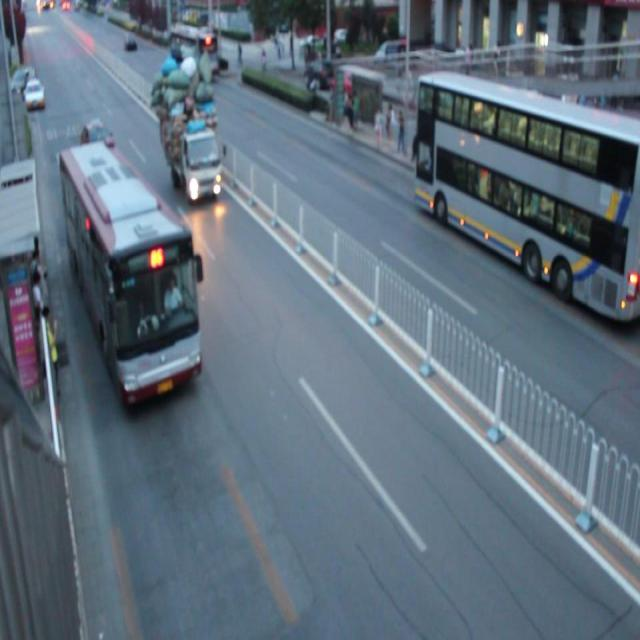bus: (160, 54, 220, 202)
car: (80, 118, 116, 164), (173, 64, 209, 104)
van: (416, 74, 640, 318), (58, 148, 201, 407)
